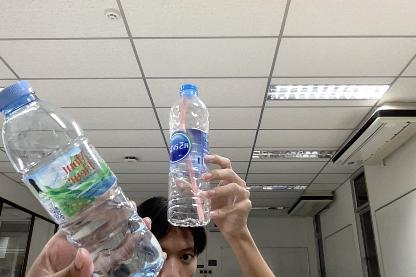Plastic Bottle: (0, 73, 164, 277), (166, 77, 216, 236)
